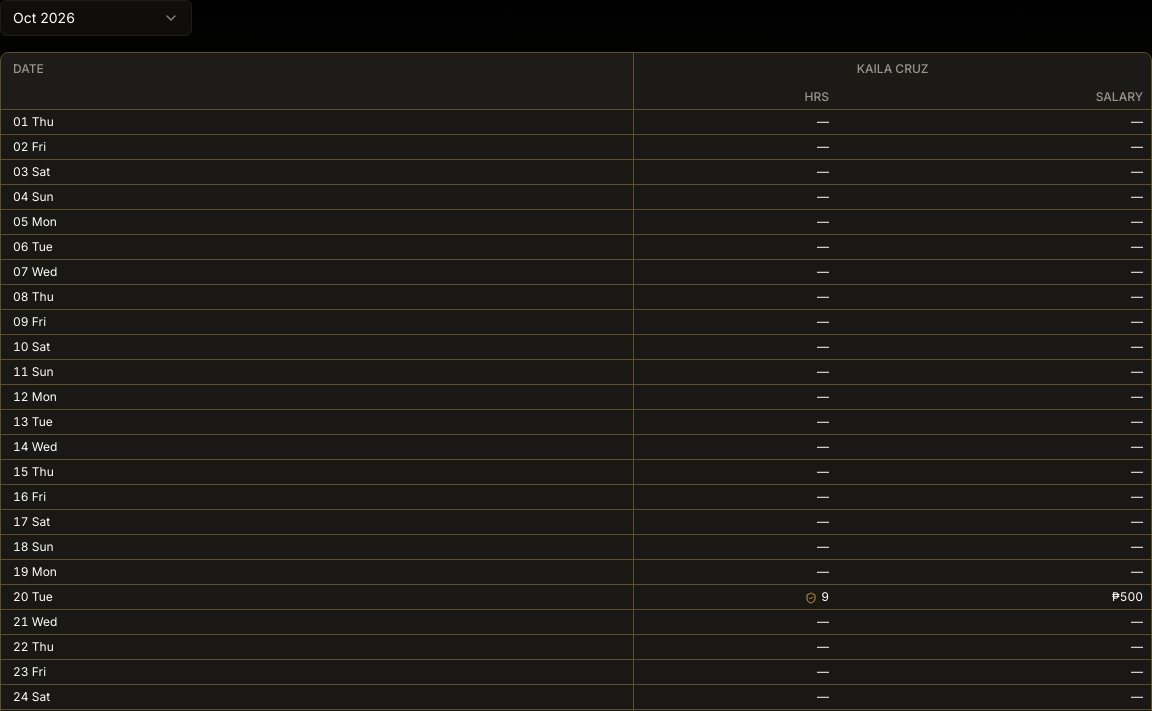
it: Consolidation cells › Admin / Brenda: every day cell is a button; corrected cells carry a marker; it opens the dialog
expect the number of icons named "Corrected" is 1: met, box [805, 592, 817, 604]
Step 1. Click the button named "Correct Kaila Cruz, 2026-10-20" → click(736, 597), box [634, 585, 837, 609]
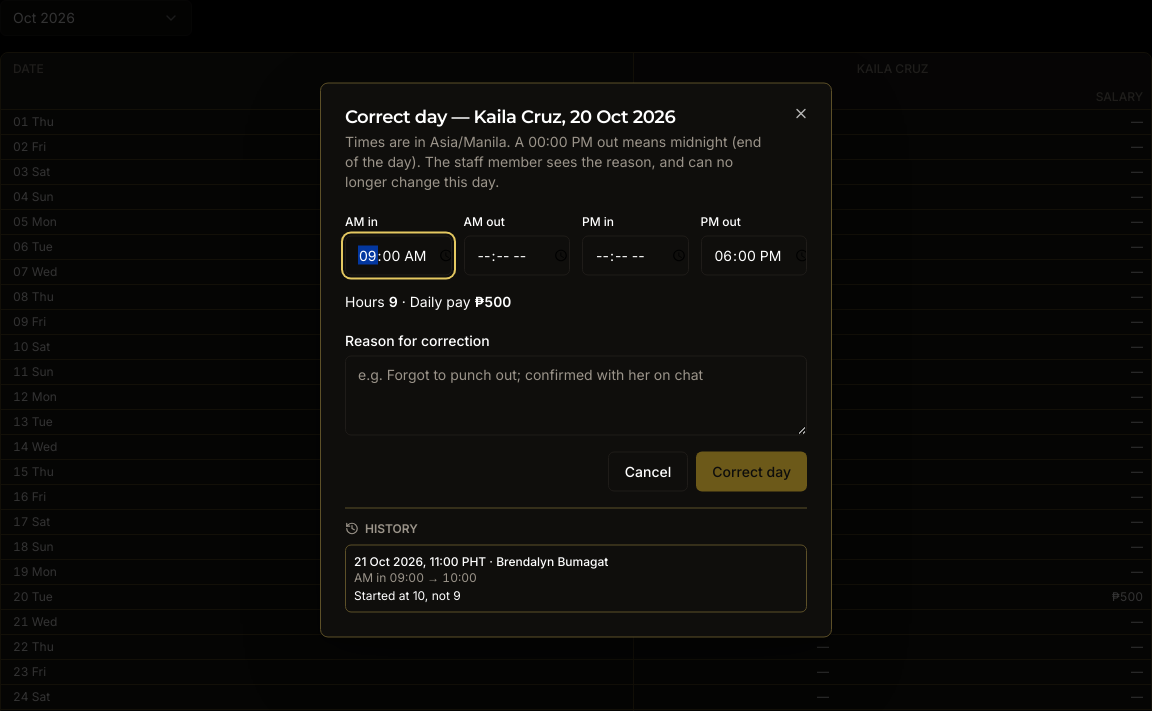
expect the heading "Correct day — Kaila Cruz, 20 Oct 2026" is shown: met, box [345, 106, 675, 128]
expect the element with test id "correct-history" shows "Started at 10, not 9": met, box [354, 588, 461, 602]
